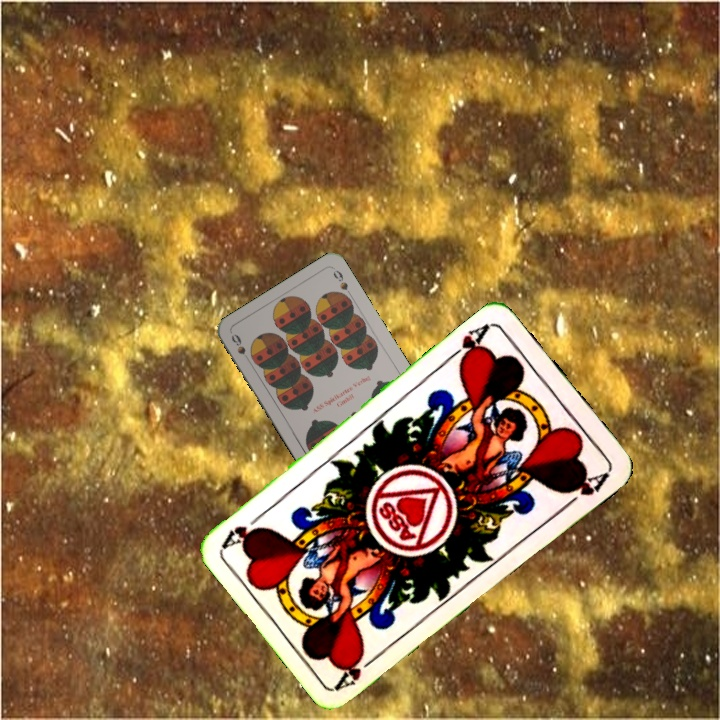HA: (444, 319, 494, 368), (332, 648, 384, 692)
S9: (227, 330, 257, 367)
